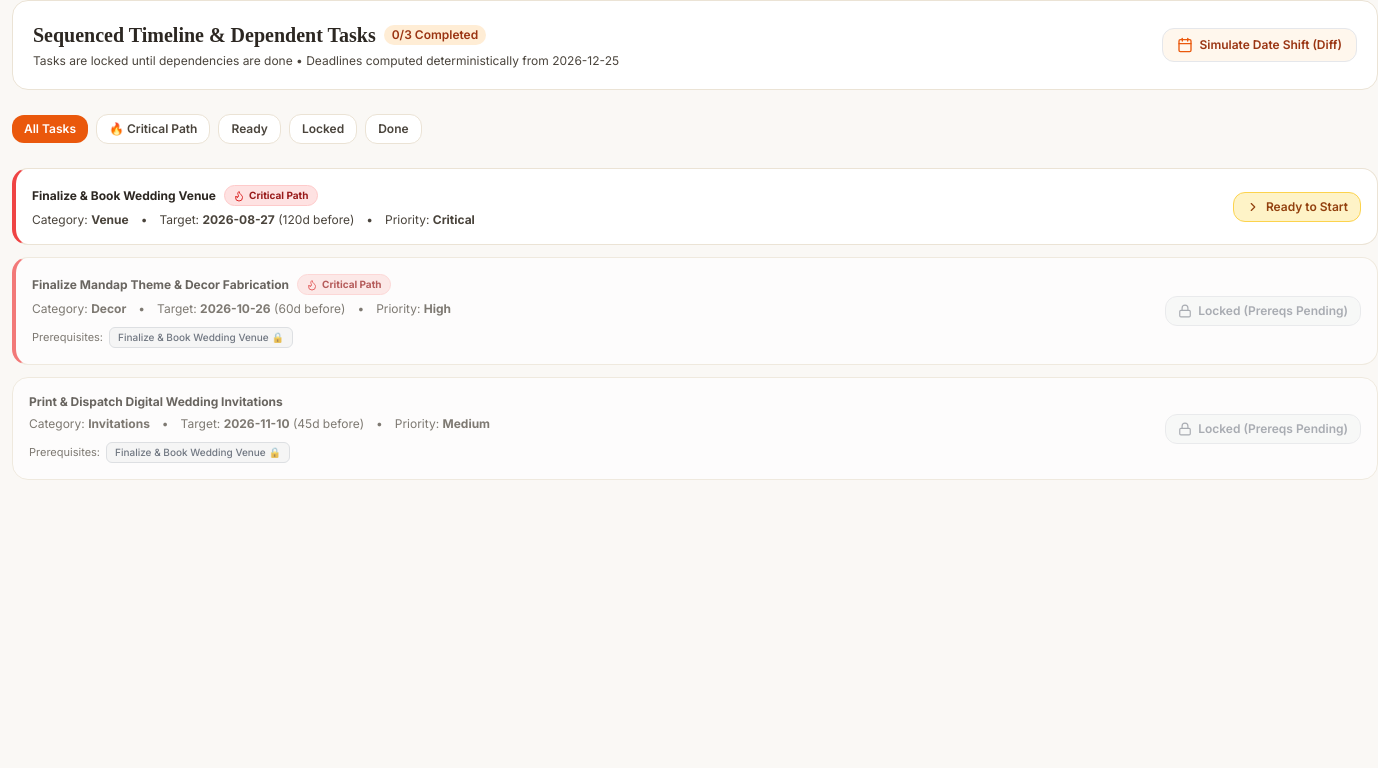
Scenario: TimelineTab Component › allows cancelling date shift simulation without modifying the event plan
Note: Click "Simulate Date Shift (Diff)"
Click the button "Simulate Date Shift (Diff)" at (1260, 45), box top-left (1162, 28), bottom-right (1357, 62)
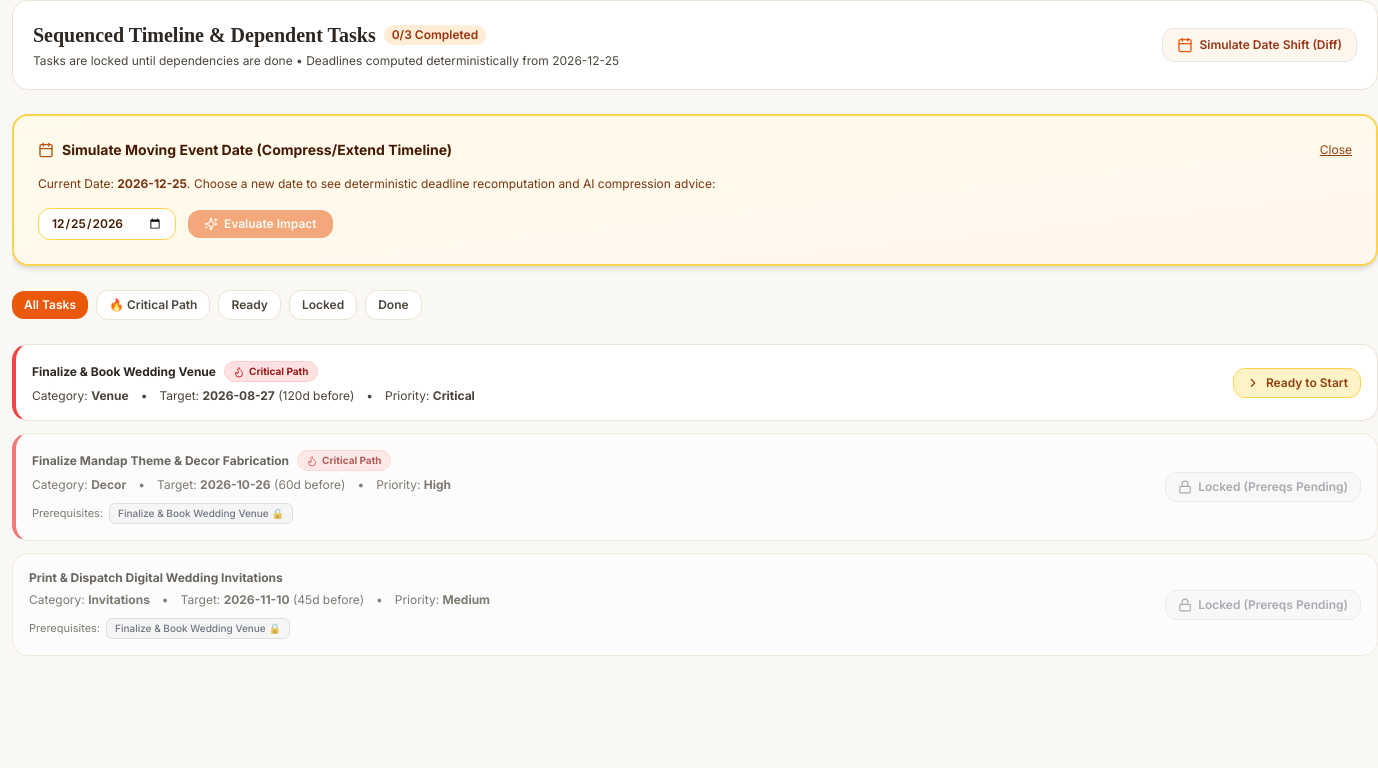
expect the text "Simulate Moving Event Date (Compress/Extend Timeline)" is shown: met, box top-left (62, 140), bottom-right (452, 160)
Note: Click "Close" / Cancel
Click the button "Close" at (1336, 150), box top-left (1320, 142), bottom-right (1352, 158)
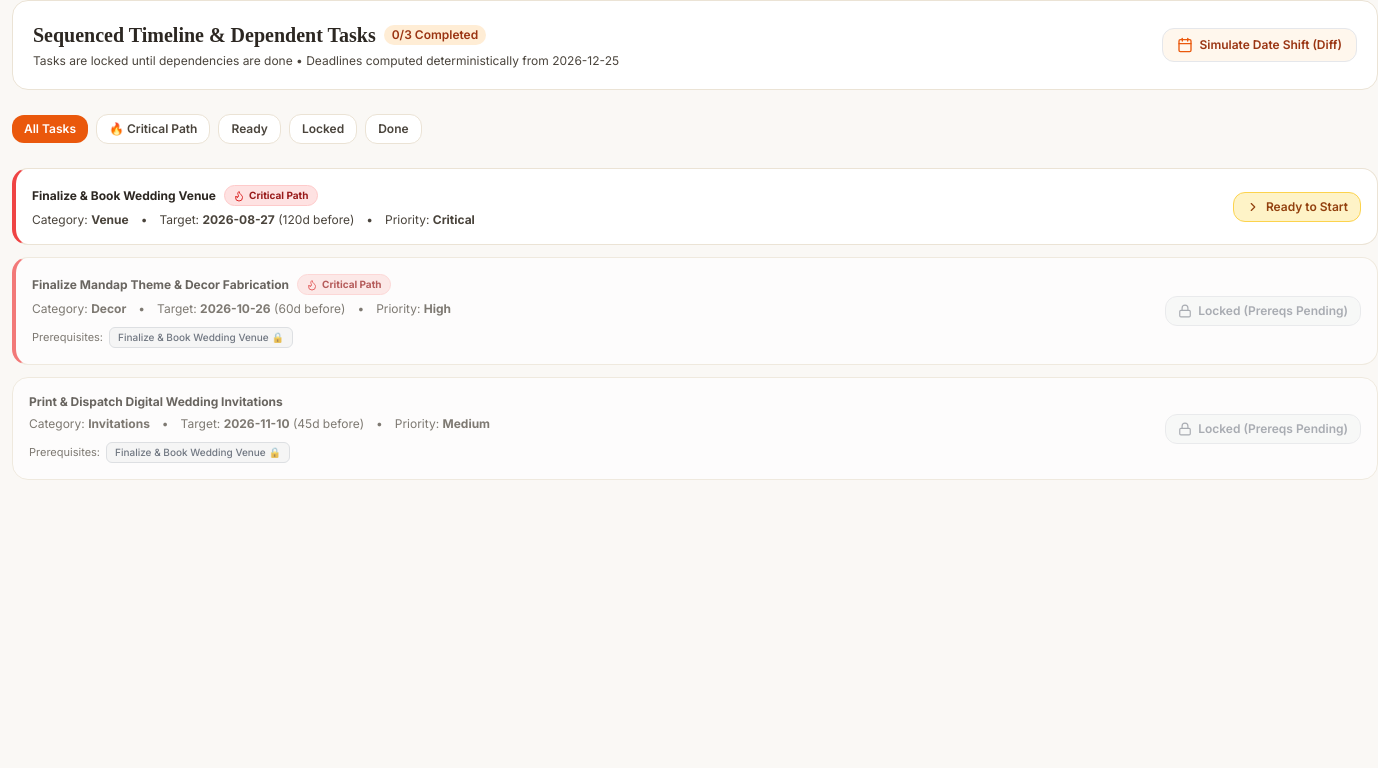
expect the text "Deadlines computed deterministically from 2026-12-25" is shown: met, box top-left (33, 53), bottom-right (619, 69)
expect the text "Simulate Moving Event Date" is gone: met
